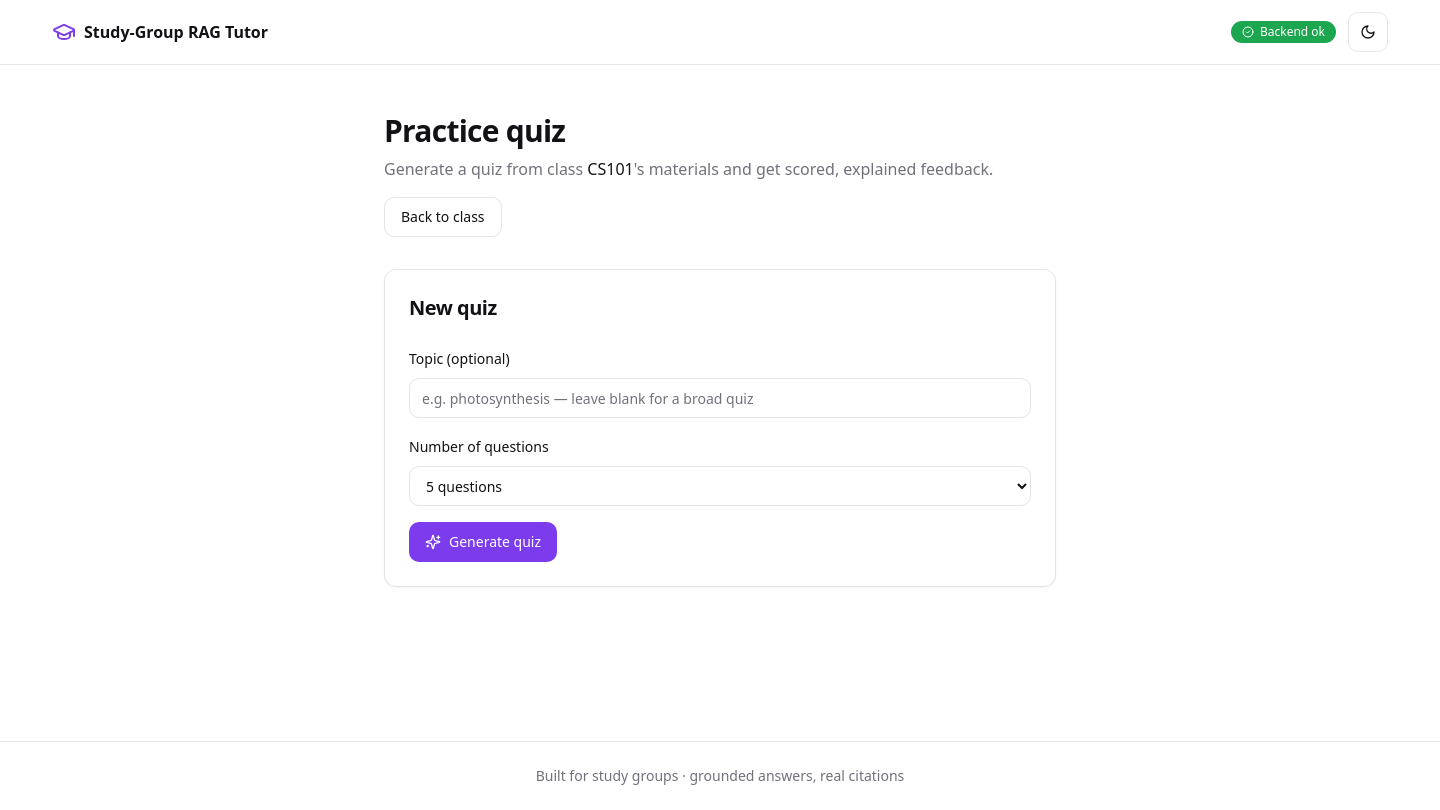
it: QuizPage › generates, takes, submits, and shows the score with review
Click the button "Generate quiz" at (483, 542), box 409,522 -> 557,562
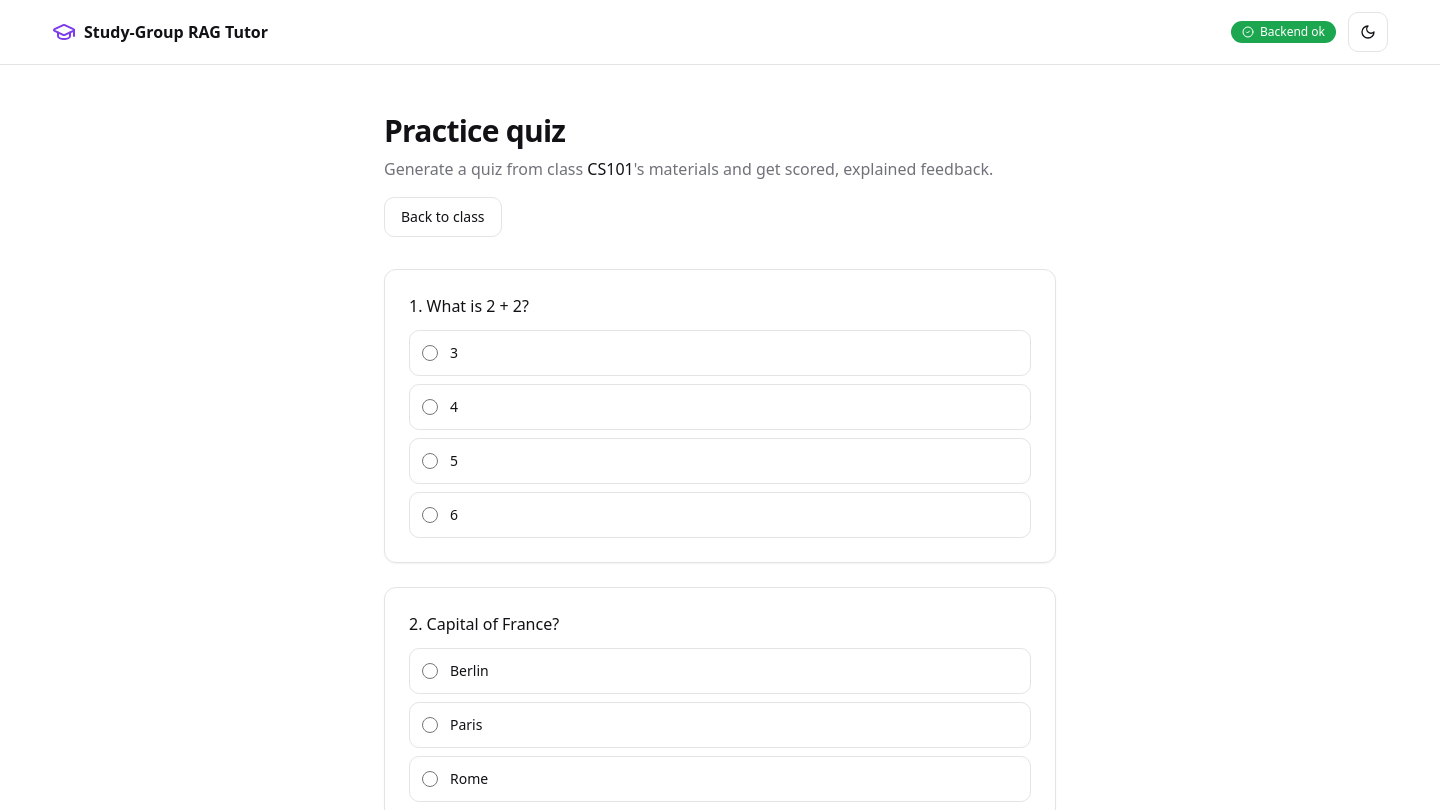
Result: the text "1. What is 2 + 2?" is shown at 409,294 -> 529,318
Click the radio button labelled "4" at (430, 407), box 422,399 -> 438,415
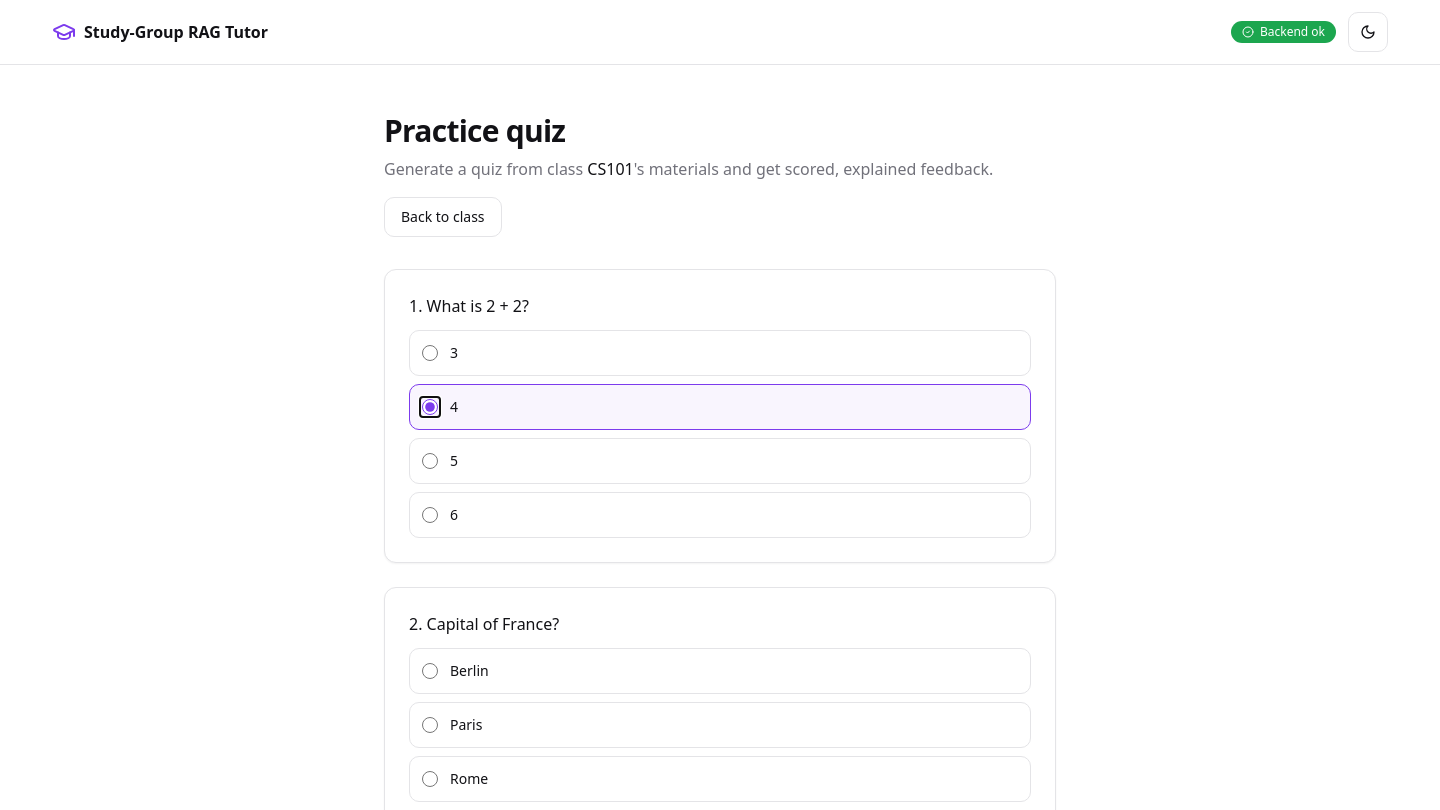
Click the radio button labelled "Berlin" at (430, 671), box 422,663 -> 438,679
(page scrolled)
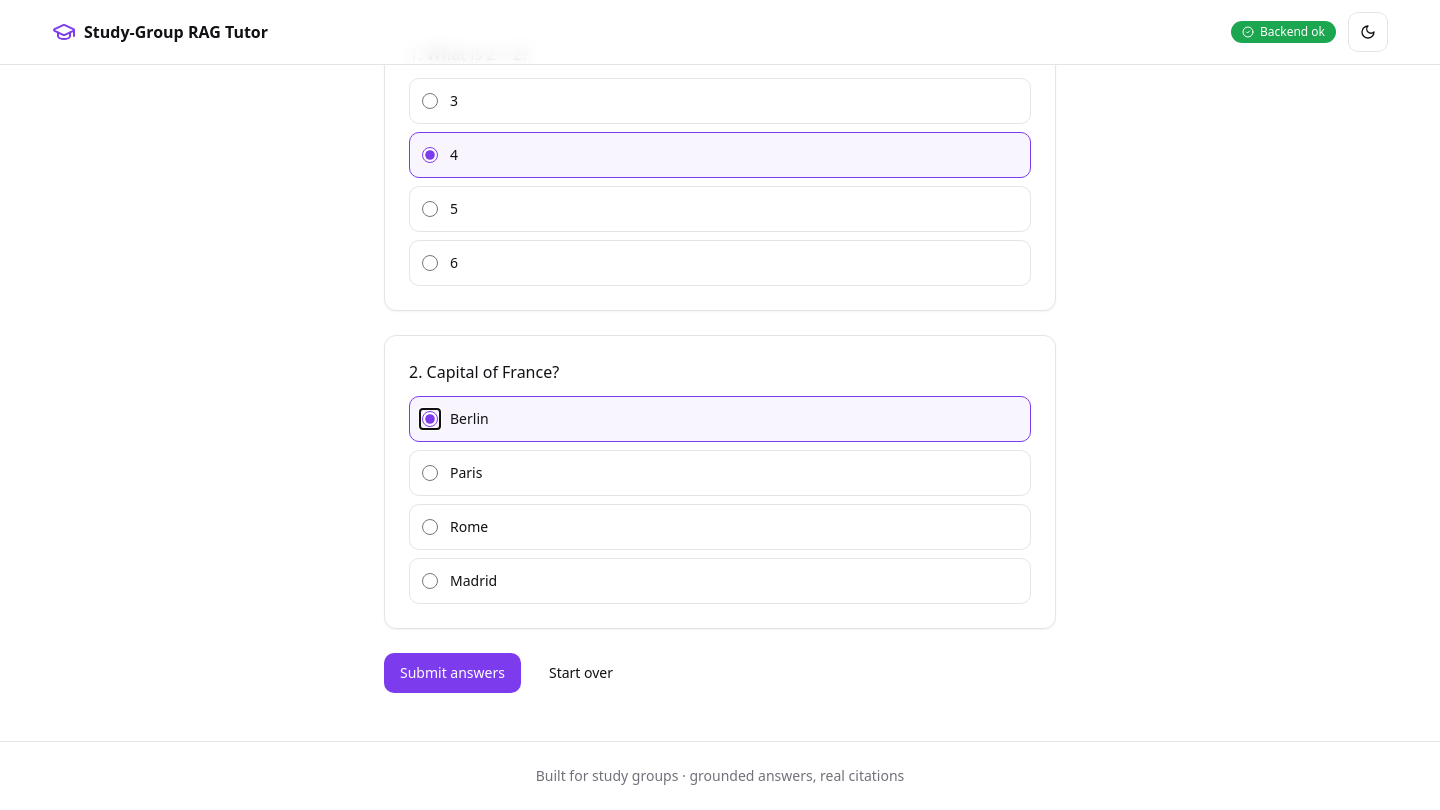
Result: the button "Submit answers" is enabled
Click the button "Submit answers" at (452, 673), box 384,653 -> 521,693
(page scrolled)
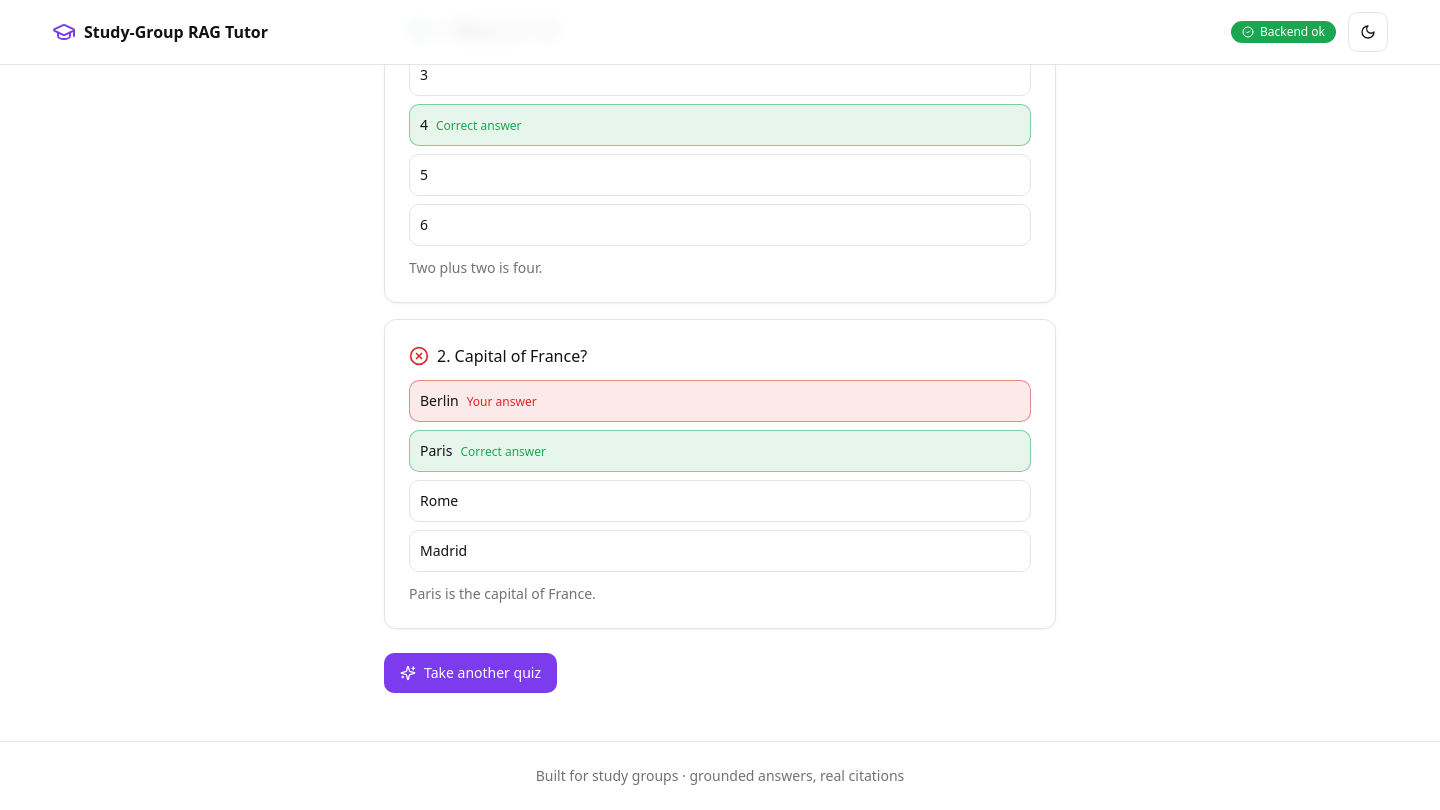
Result: the text "Paris is the capital of France." is shown at 409,584 -> 596,603
Result: the button "Take another quiz" is shown at 384,653 -> 557,693
